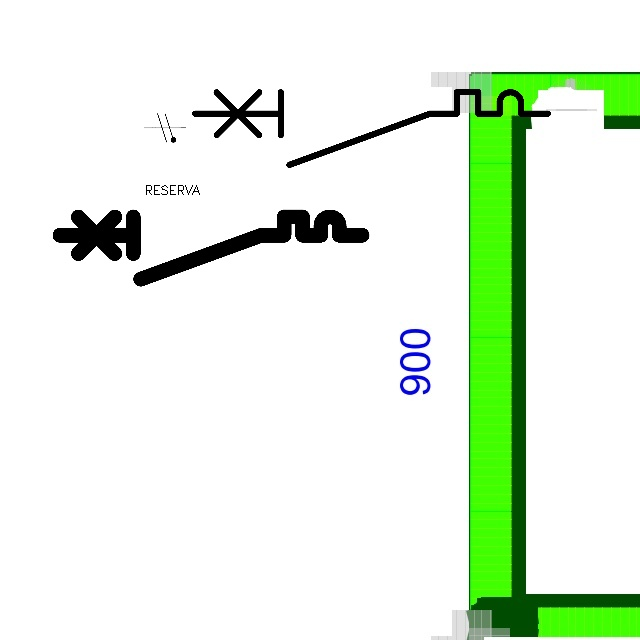interruptor_termomagnetico: (185, 83, 556, 173), (52, 209, 370, 286)
